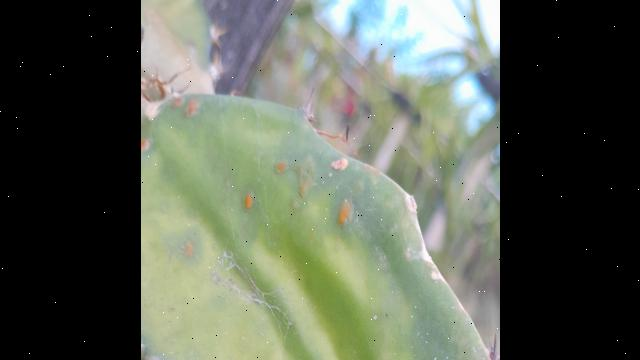stemcanker: (328, 194, 359, 232), (234, 188, 262, 218), (173, 239, 203, 267), (293, 170, 316, 203), (267, 156, 290, 184), (182, 99, 205, 127), (167, 96, 186, 117)
